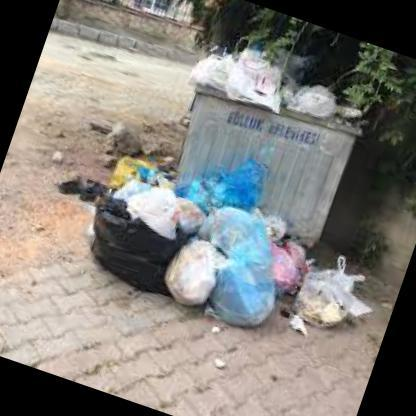Garbage: (44, 138, 407, 386), (172, 197, 310, 346), (178, 26, 365, 134), (74, 164, 200, 302), (280, 244, 381, 338), (182, 140, 280, 228), (159, 228, 230, 319), (220, 51, 298, 122), (188, 38, 254, 96)
